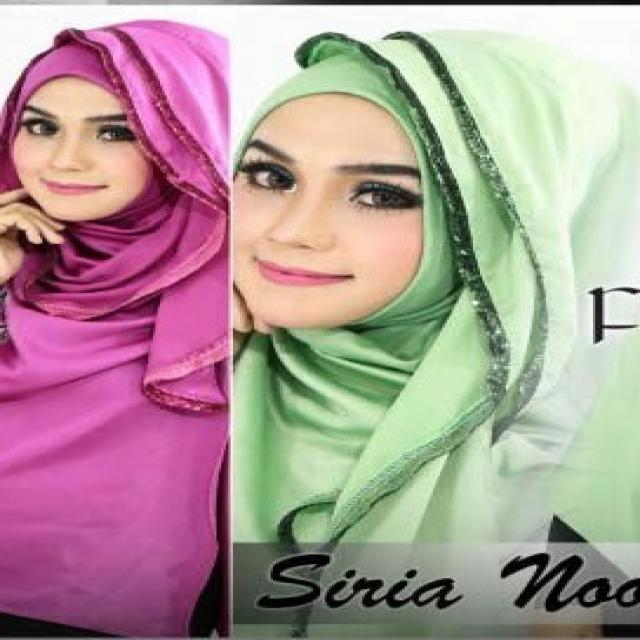head: (213, 39, 640, 331), (1, 23, 228, 234)
